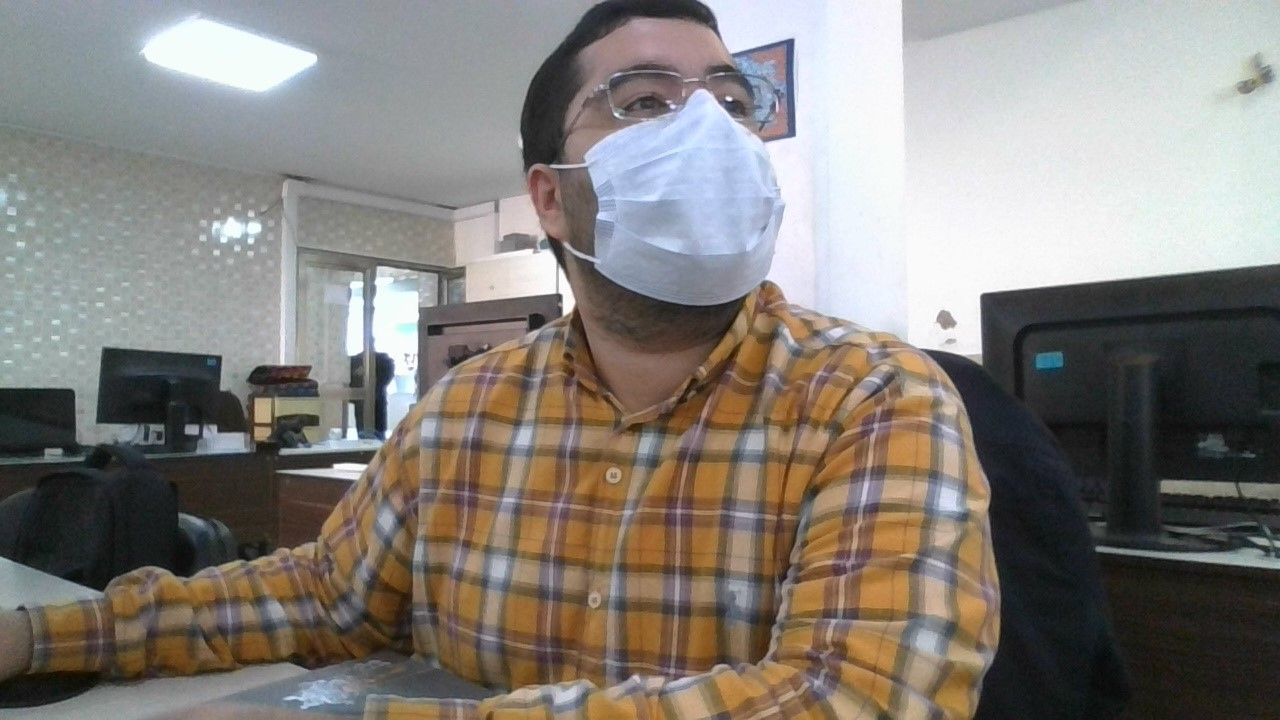Mask: (582, 89, 786, 307)
